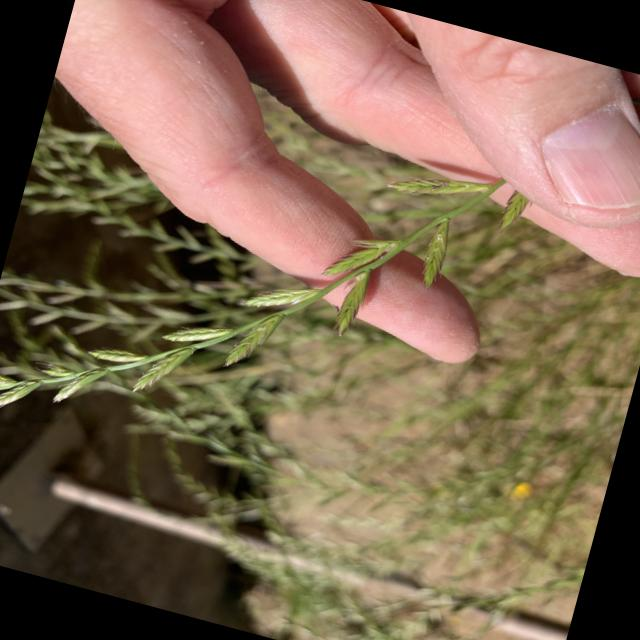Lolium: (0, 57, 529, 531)
